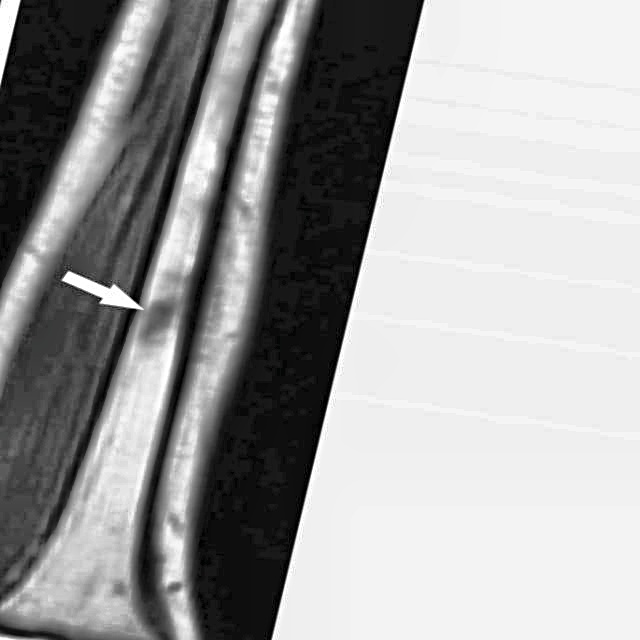Oblique Displaced: (129, 301, 209, 359)
